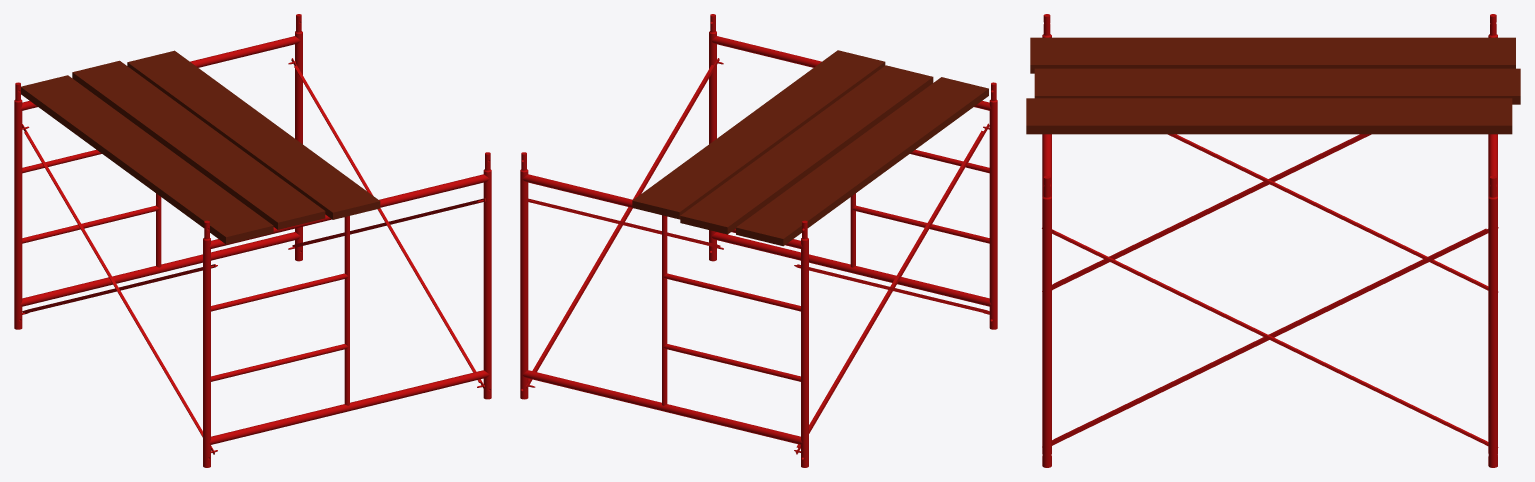
The model's file is stand1.obj.
The picture shows the model from 3 angles, left to right: view 1: azimuth 30°, elevation 25°; view 2: azimuth 150°, elevation 25°; view 3: azimuth 270°, elevation 25°; orthographic projection. The views are drawn at different scales.
Parts seen in each view (by area): view 1: planks; view 2: planks; view 3: planks.
Part boxes in pixels (box(x1,y1,x2,y2)): planks: box(14, 14, 491, 467); planks: box(520, 14, 997, 467); planks: box(1026, 14, 1520, 467).
Size of the model in its own units: 123 by 99.81 by 155.
